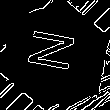N_E: (25, 30, 85, 80)
